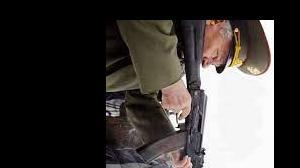larga: (135, 21, 208, 168)
